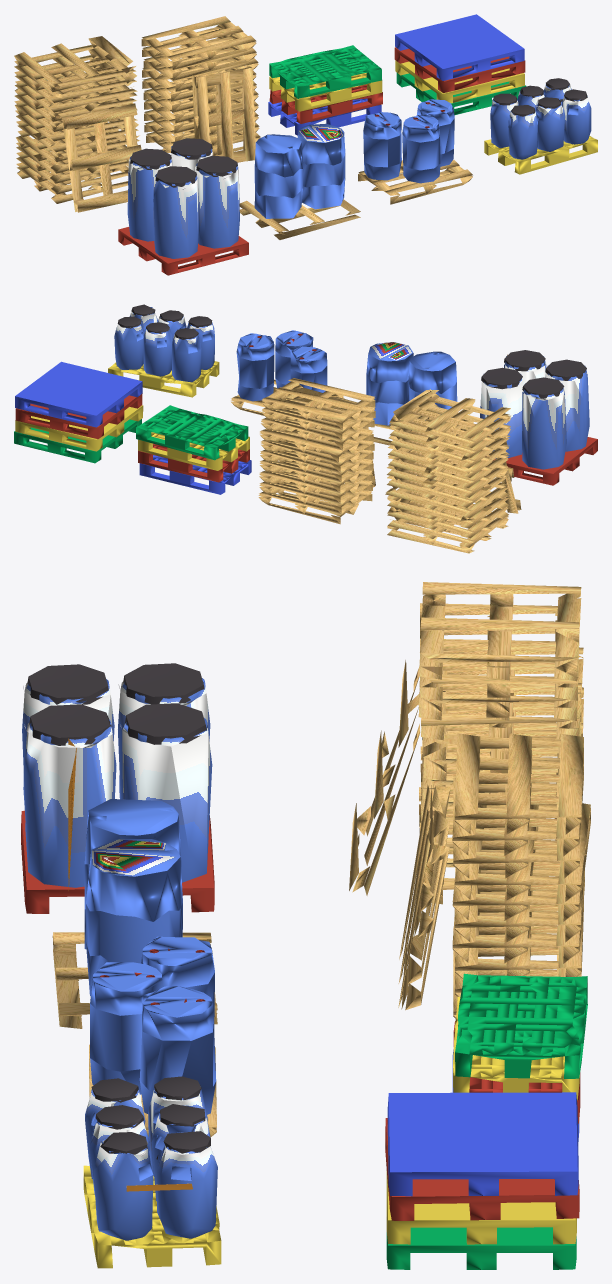
The model's file is pallets_and_plastic_barrels.glb.
3 renders of one model, top to bottom at view 1: azimuth 30°, elevation 25°; view 2: azimuth 150°, elevation 25°; view 3: azimuth 270°, elevation 25°, orthographic. The views are drawn at different scales.
Parts seen in each view (by area): view 1: Object_15, Object_2, Object_3; view 2: Object_15, Object_2, Object_3; view 3: Object_2, Object_15, Object_3.
Boxes of the visible parts, x1,y1,x2,y2 form: Object_15: (14,16,472,239); Object_2: (118,14,597,275); Object_3: (127,123,345,258); Object_15: (231,378,521,553); Object_2: (14,304,597,494); Object_3: (366,342,589,469); Object_2: (21,738,587,1269); Object_15: (52,582,590,1137); Object_3: (22,663,212,995).
Size of the model in its own units: 6.71 by 1.69 by 3.6.
Materials: 2 (2 with a texture image).
